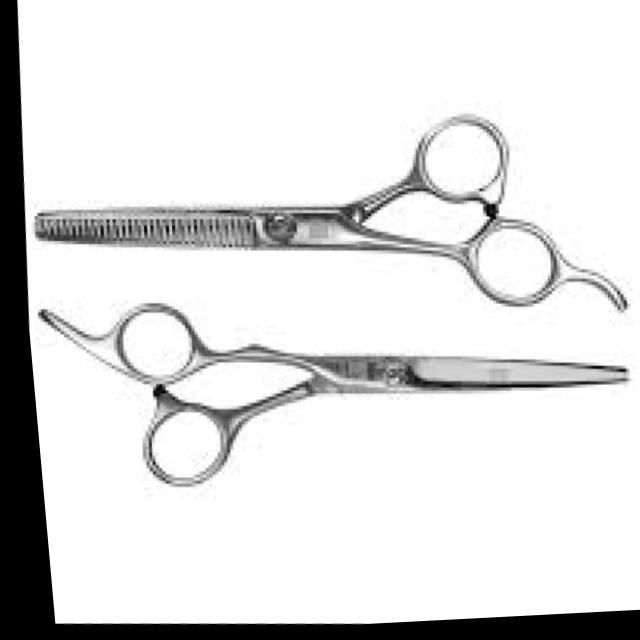scissor: (17, 90, 637, 347), (21, 278, 638, 518)
